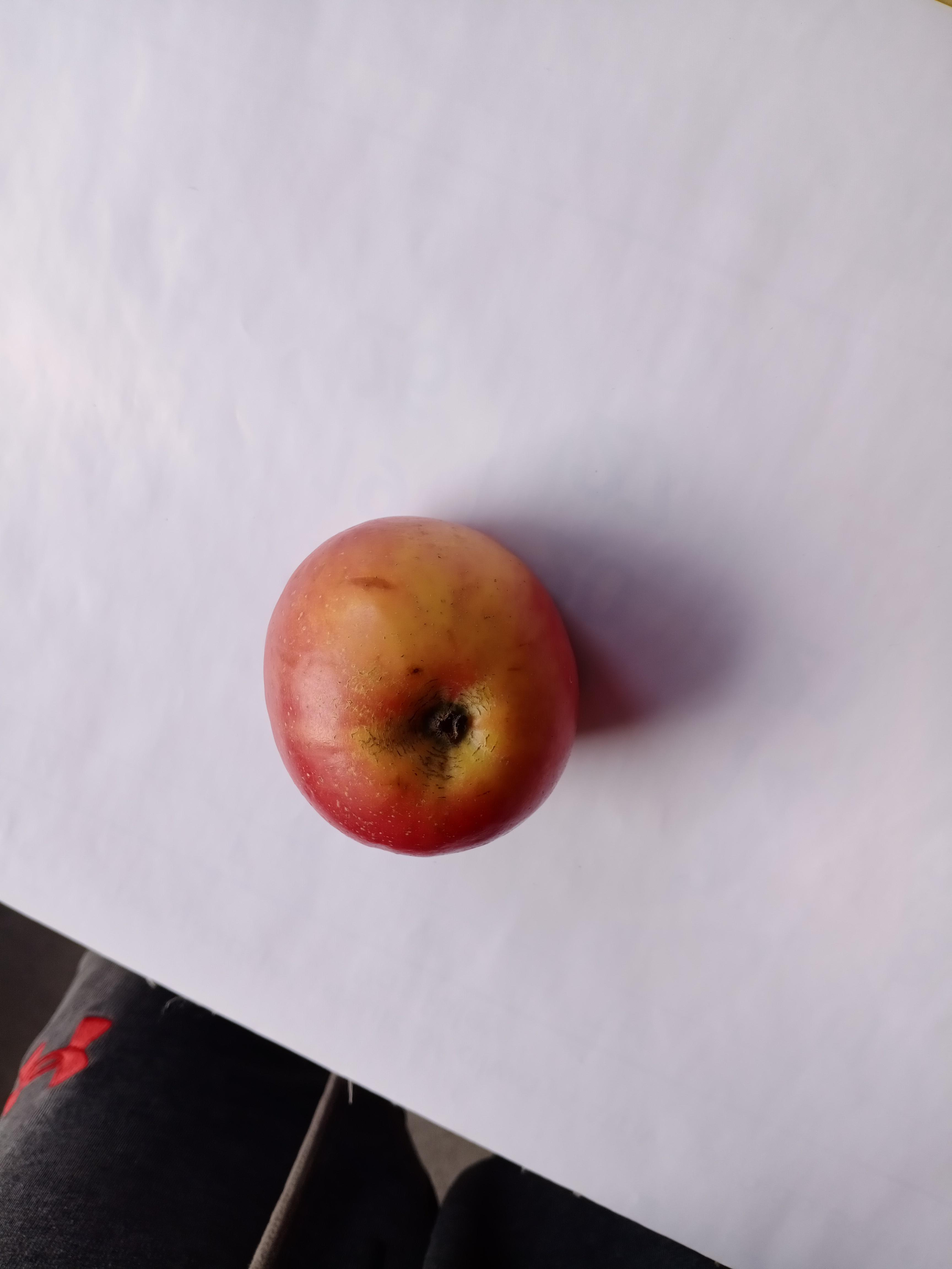Apple Ripe: (243, 504, 600, 876)
